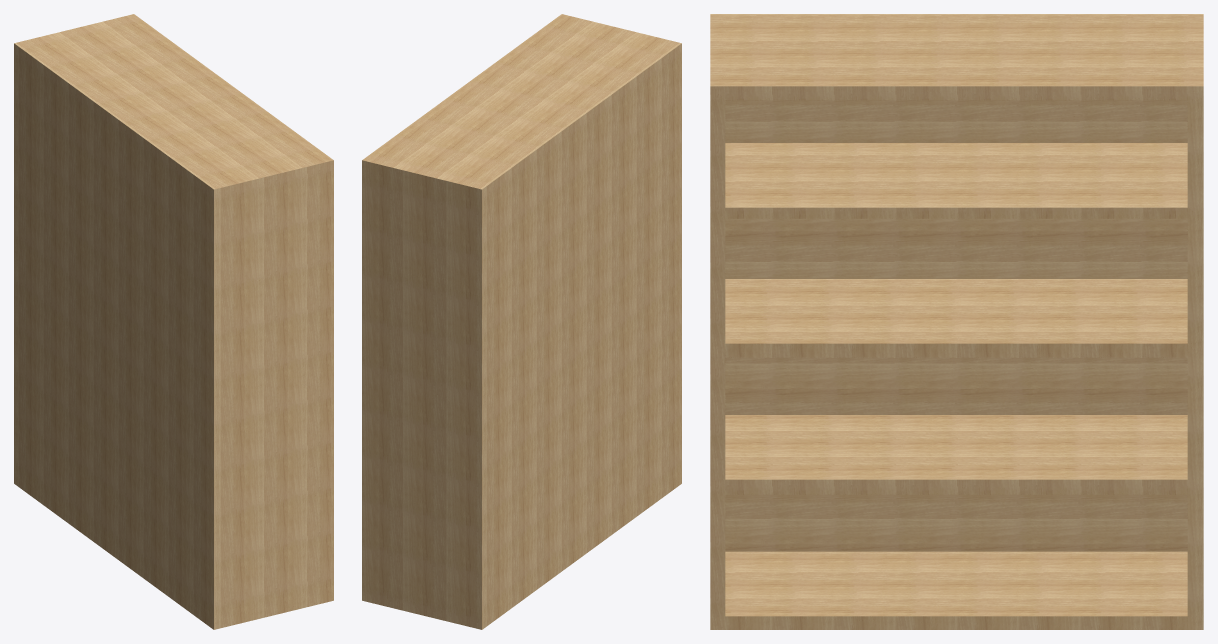
The model's file is estanteríaMadera.fbx.
The picture shows the model from 3 angles, left to right: view 1: azimuth 30°, elevation 25°; view 2: azimuth 150°, elevation 25°; view 3: azimuth 270°, elevation 25°; orthographic projection. The views are drawn at different scales.
Visible parts, largest first — view 1: shelve:Mesh; view 2: shelve:Mesh; view 3: shelve:Mesh.
Part boxes in pixels (box(x1,y1,x2,y2)): shelve:Mesh: box(14, 14, 333, 629); shelve:Mesh: box(362, 14, 681, 629); shelve:Mesh: box(710, 14, 1203, 629).
Size of the model in its own units: 2.75 by 9.63 by 7.92.
Materials: 1 (1 with a texture image).
